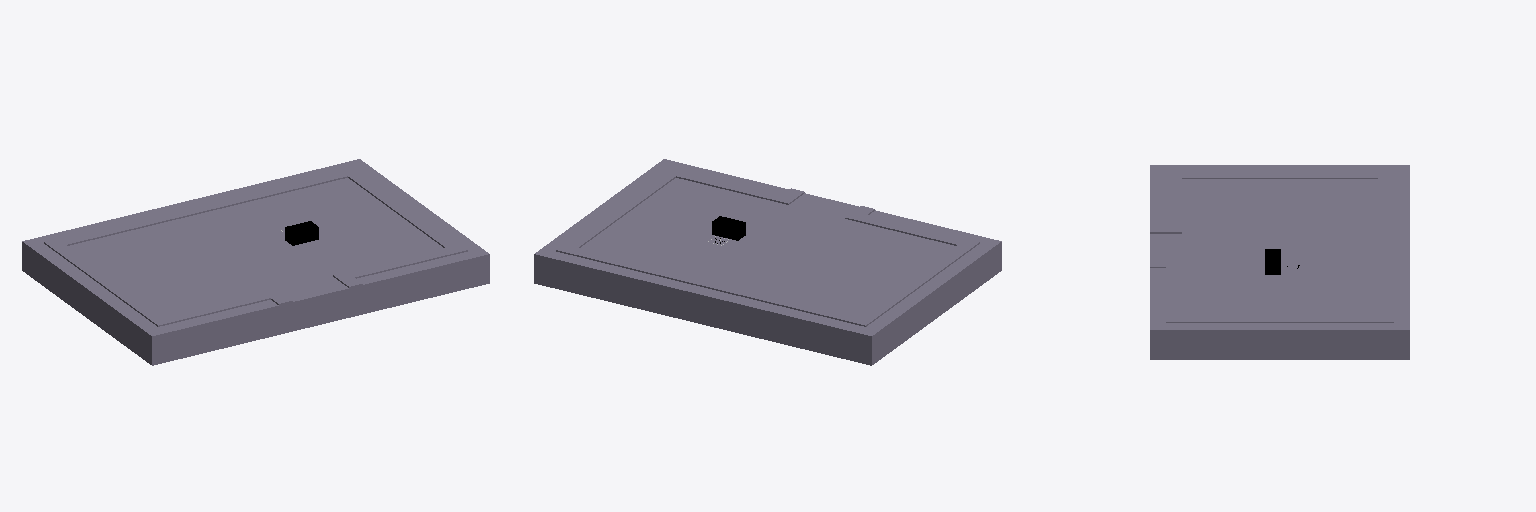
File: vehicles_asset_v2.obj
3 views of the same model, side by side, from view 1: azimuth 30°, elevation 25°; view 2: azimuth 150°, elevation 25°; view 3: azimuth 270°, elevation 25° (orthographic).
Parts seen in each view (by area): view 1: lot-corner_Cube.037, lot-corner.002_Cube.013, lot-exit_Cube.004, lot-corner.001_Cube.009, lot-corner.003_Cube.018, lot-border_Cube.002, car_box_Cube.005; view 2: lot-corner.001_Cube.009, lot-corner.003_Cube.018, lot-border_Cube.002, lot-corner_Cube.037, lot-corner.002_Cube.013, lot-exit_Cube.004, car_box_Cube.005; view 3: lot-corner.003_Cube.018, lot-corner.002_Cube.013, lot-corner.001_Cube.009, lot-corner_Cube.037, lot-border_Cube.002, lot-exit_Cube.004.
Boxes of the visible parts, <box> form: lot-corner_Cube.037: <box>87,261,264,365</box>; lot-corner.002_Cube.013: <box>319,207,489,310</box>; lot-exit_Cube.004: <box>200,239,376,337</box>; lot-corner.001_Cube.009: <box>22,214,198,317</box>; lot-corner.003_Cube.018: <box>247,159,424,231</box>; lot-border_Cube.002: <box>136,187,297,260</box>; car_box_Cube.005: <box>285,221,318,245</box>; lot-corner.001_Cube.009: <box>759,261,936,365</box>; lot-corner.003_Cube.018: <box>534,207,710,310</box>; lot-border_Cube.002: <box>647,234,823,337</box>; lot-corner_Cube.037: <box>825,214,1001,317</box>; lot-corner.002_Cube.013: <box>599,159,776,233</box>; lot-exit_Cube.004: <box>733,187,887,260</box>; car_box_Cube.005: <box>712,216,745,240</box>; lot-corner.003_Cube.018: <box>1280,274,1409,359</box>; lot-corner.002_Cube.013: <box>1150,274,1279,359</box>; lot-corner.001_Cube.009: <box>1280,165,1409,219</box>; lot-corner_Cube.037: <box>1150,165,1279,219</box>; lot-border_Cube.002: <box>1280,219,1409,274</box>; lot-exit_Cube.004: <box>1150,219,1279,274</box>.
Bounding box in the file's own units: 24 × 2.87 × 16.